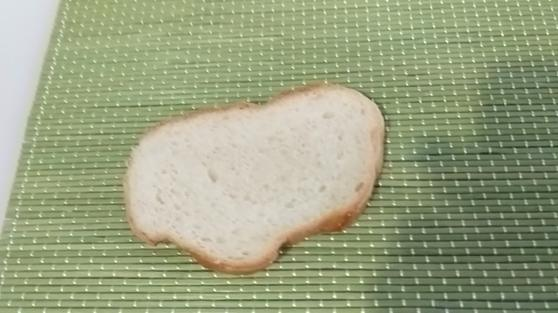white_bread: (121, 77, 392, 283)
